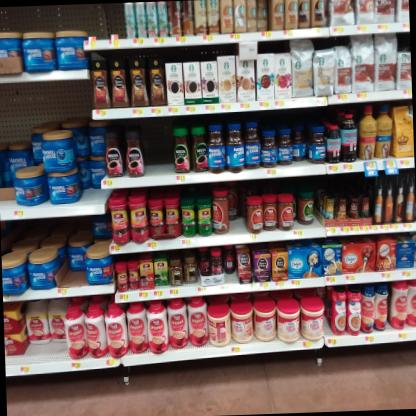empty_space: (144, 126, 176, 180), (104, 3, 123, 42), (87, 4, 101, 43)
